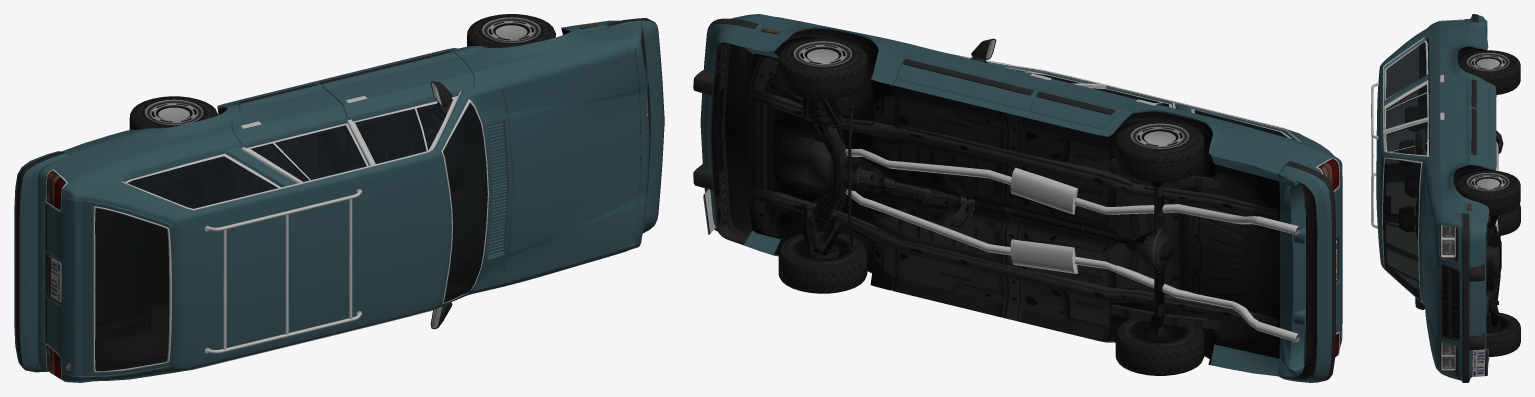
3 views of the same model, side by side, from view 1: azimuth 30°, elevation 25°; view 2: azimuth 150°, elevation 25°; view 3: azimuth 270°, elevation 25° (orthographic). The views are drawn at different scales.
Visible parts, largest first — view 1: fairheaven_sw84; view 2: fairheaven_sw84; view 3: fairheaven_sw84.
Boxes of the visible parts, x1,y1,x2,y2 form: fairheaven_sw84: (14,14,664,382); fairheaven_sw84: (693,14,1342,382); fairheaven_sw84: (1371,14,1520,382).
Size of the model in its own units: 5.03 by 1.86 by 1.4.
Materials: 8 (7 with a texture image).
